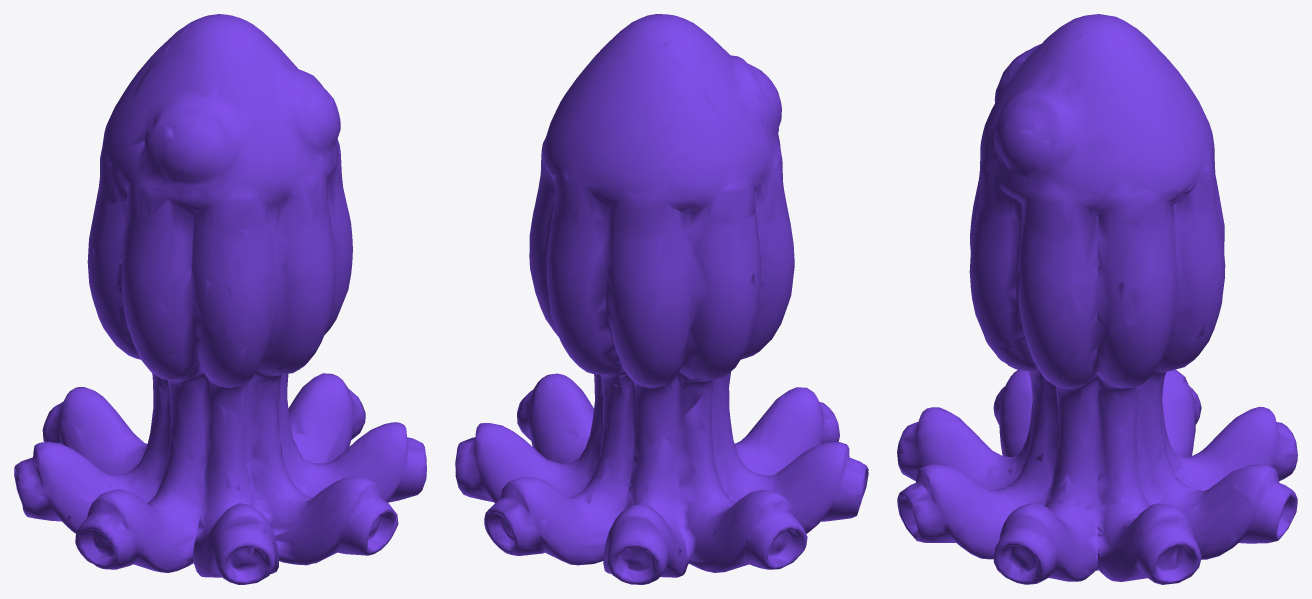
File: large-ar.glb
3 renders of one model, left to right at view 1: azimuth 30°, elevation 25°; view 2: azimuth 150°, elevation 25°; view 3: azimuth 270°, elevation 25°, orthographic.
Bounding box in the file's own units: 0.1388 × 0.1961 × 0.1386.
